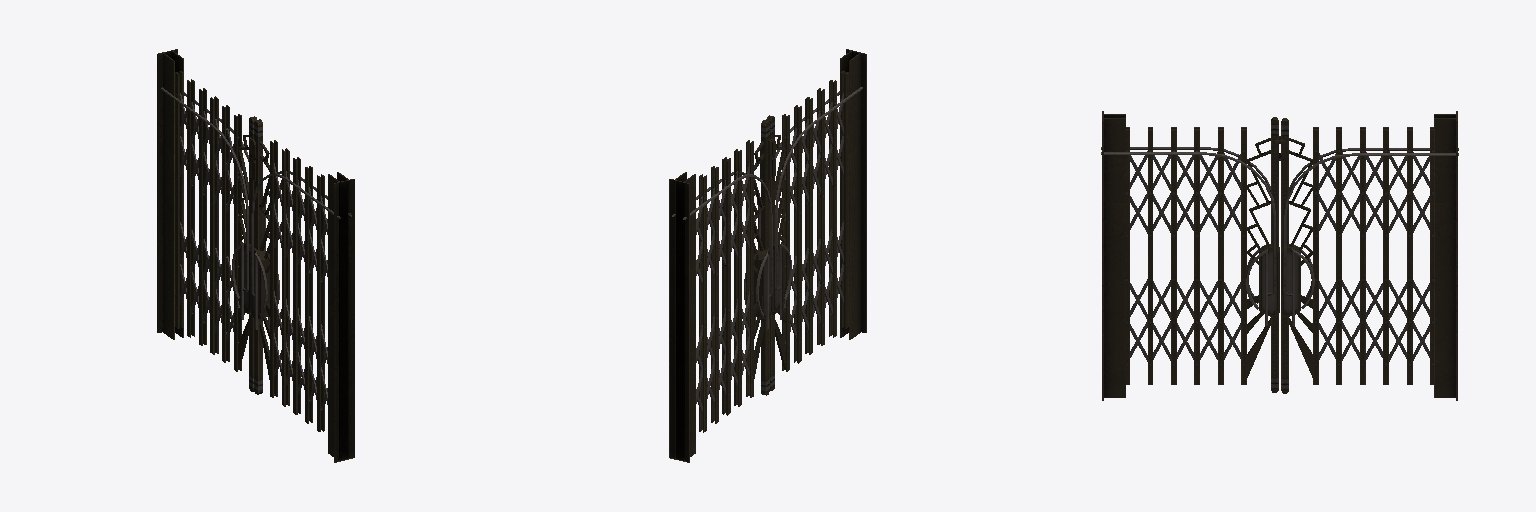
3 views of the same model, side by side, from view 1: azimuth 30°, elevation 25°; view 2: azimuth 150°, elevation 25°; view 3: azimuth 270°, elevation 25° (orthographic).
Parts seen in each view (by area): view 1: SecurityGate; view 2: SecurityGate; view 3: SecurityGate.
Part boxes in pixels (x1,y1,x2,y2): SecurityGate: (157, 49, 354, 462); SecurityGate: (669, 49, 866, 462); SecurityGate: (1101, 111, 1458, 400).
Bounding box in the file's own units: 16 × 208 × 242.
Materials: 1 (1 with a texture image).